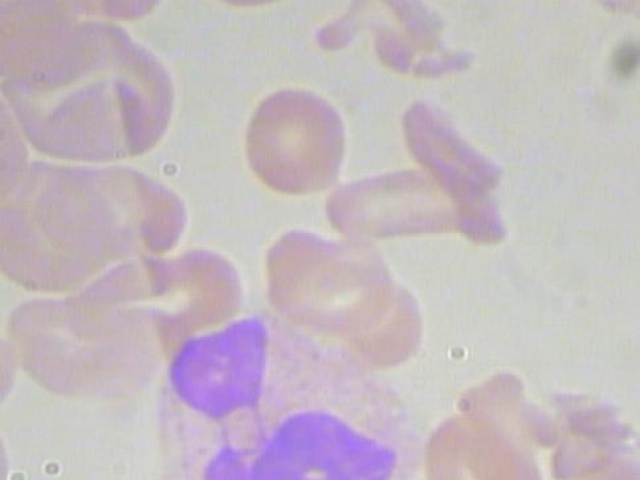WBC: (128, 303, 440, 480)
